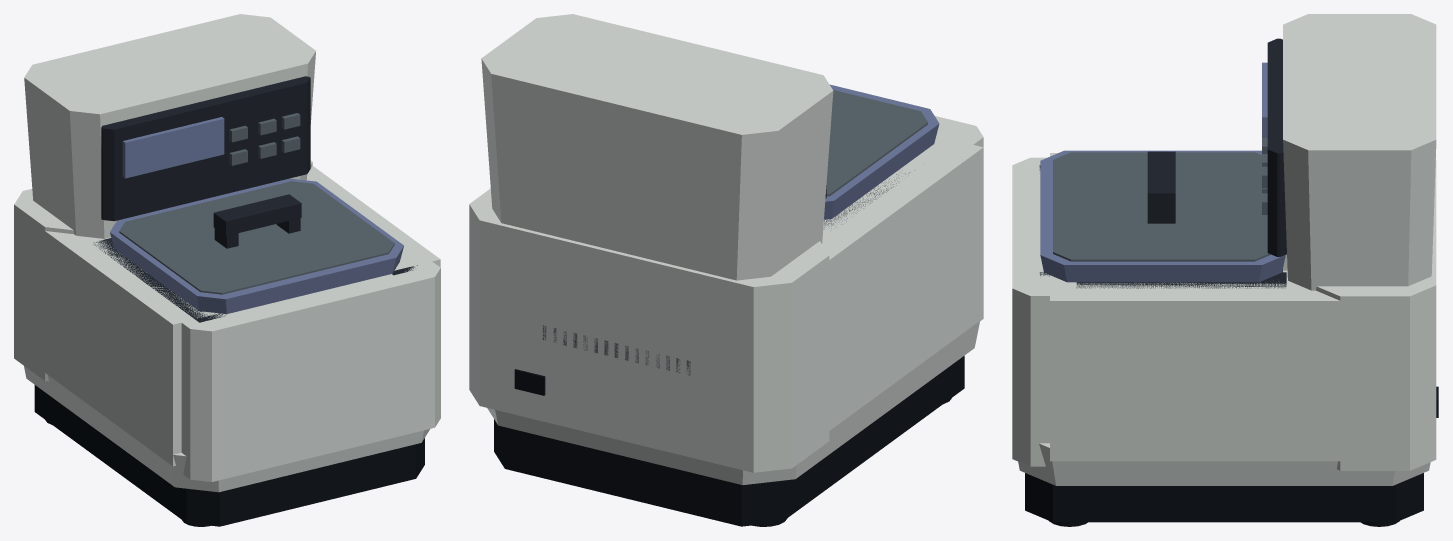
File: bransonic-1800.glb
3 renders of one model, left to right at view 1: azimuth 30°, elevation 25°; view 2: azimuth 150°, elevation 25°; view 3: azimuth 270°, elevation 25°, orthographic. The views are drawn at different scales.
Visible parts, largest first — view 1: enclosure, control_tower, lid, base, rim; view 2: enclosure, control_tower, base, lid, rear_port; view 3: enclosure, control_tower, lid, base, rim.
Part boxes in pixels (x1,y1,x2,y2): enclosure: (14,160,440,492); control_tower: (24,14,315,238); lid: (110,178,403,314); base: (34,385,424,526); rim: (93,238,417,322); enclosure: (469,116,983,484); control_tower: (481,14,833,280); base: (494,356,964,526); lid: (824,84,939,219); rear_port: (514,325,690,395); enclosure: (1012,153,1436,485); control_tower: (1262,14,1436,290); lid: (1040,150,1285,282); base: (1025,473,1423,526); rim: (1039,165,1286,288).
Size of the model in its own units: 0.251 by 0.302 by 0.3055.
